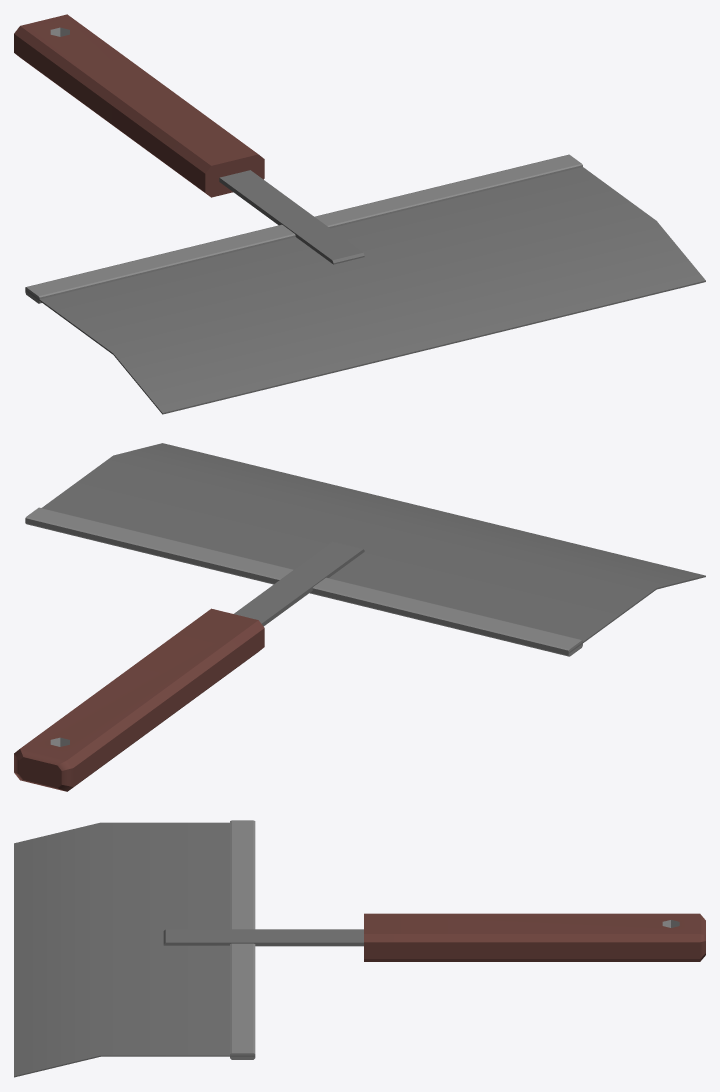
The model's file is Flipper1.fbx.
The picture shows the model from 3 angles, top to bottom: view 1: azimuth 30°, elevation 25°; view 2: azimuth 150°, elevation 25°; view 3: azimuth 270°, elevation 25°; orthographic projection. The views are drawn at different scales.
Parts seen in each view (by area): view 1: Flipper1; view 2: Flipper1; view 3: Flipper1.
Boxes of the visible parts, box(x1,y1,x2,y2) form: Flipper1: box(14, 14, 705, 414); Flipper1: box(14, 443, 705, 791); Flipper1: box(14, 820, 705, 1077).
Size of the model in its own units: 47.46 by 3.53 by 59.58.
